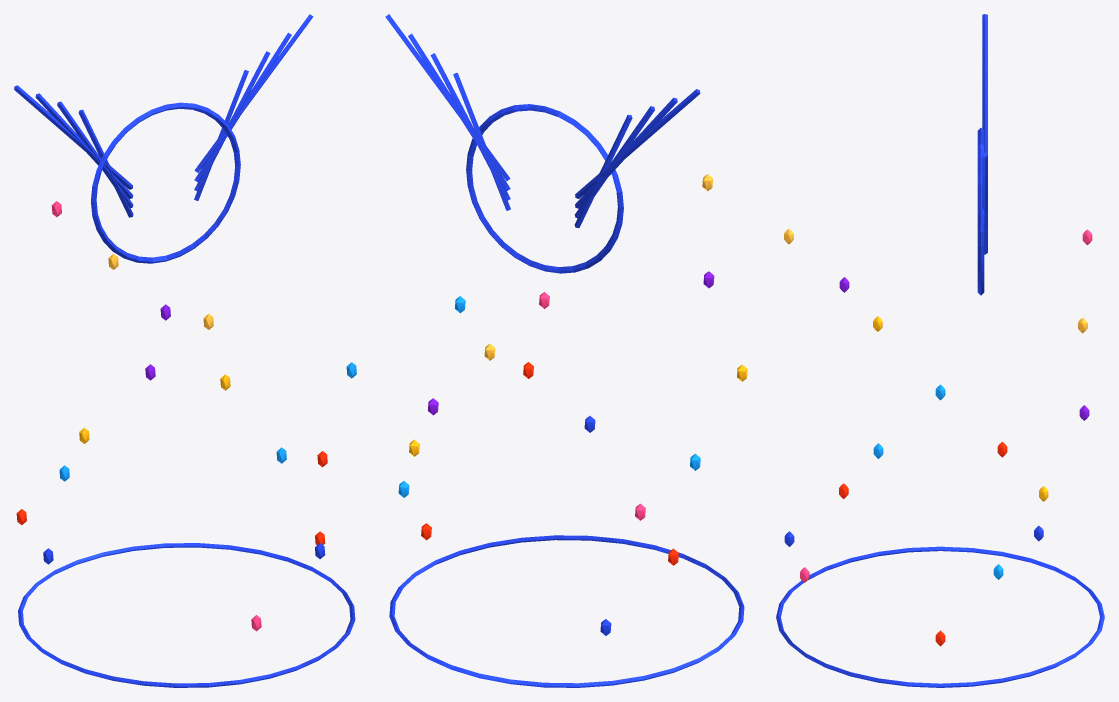
File: aura-rainbow.glb
The picture shows the model from 3 angles, left to right: view 1: azimuth 30°, elevation 25°; view 2: azimuth 150°, elevation 25°; view 3: azimuth 270°, elevation 25°; orthographic projection. The views are drawn at different scales.
Parts seen in each view (by area): view 1: GroundRing, BackHalo, WingRay.003, WingRay.007, WingRay.006, WingRay.002, WingRay.005, WingRay.001, WingRay, WingRay.004; view 2: GroundRing, BackHalo, WingRay.003, WingRay.007, WingRay.006, WingRay.002, WingRay.005, WingRay.001, WingRay, WingRay.004; view 3: GroundRing, BackHalo.
Part boxes in pixels (bbox=[...]): GroundRing: bbox=[18, 543, 355, 687]; BackHalo: bbox=[91, 102, 240, 263]; WingRay.003: bbox=[14, 85, 132, 189]; WingRay.007: bbox=[194, 14, 313, 172]; WingRay.006: bbox=[194, 32, 291, 182]; WingRay.002: bbox=[35, 93, 133, 198]; WingRay.005: bbox=[194, 51, 270, 191]; WingRay.001: bbox=[57, 101, 133, 208]; WingRay: bbox=[78, 109, 133, 217]; WingRay.004: bbox=[194, 70, 248, 200]; GroundRing: bbox=[389, 535, 744, 687]; BackHalo: bbox=[466, 104, 623, 273]; WingRay.003: bbox=[575, 89, 700, 198]; WingRay.007: bbox=[385, 14, 510, 181]; WingRay.006: bbox=[408, 33, 510, 190]; WingRay.002: bbox=[575, 97, 677, 208]; WingRay.005: bbox=[430, 53, 510, 200]; WingRay.001: bbox=[574, 106, 654, 218]; WingRay: bbox=[574, 114, 632, 227]; WingRay.004: bbox=[453, 73, 510, 210]; GroundRing: bbox=[776, 546, 1104, 687]; BackHalo: bbox=[977, 128, 984, 295].
Bounding box in the file's own units: 0.8302 × 1.46 × 0.812.
Materials: 1 (1 with a texture image).
